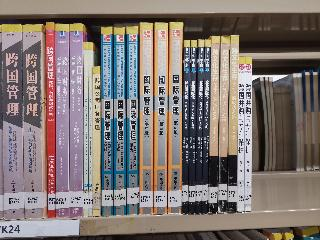book-spine: (22, 22, 47, 218), (2, 25, 25, 220), (137, 22, 154, 216), (67, 23, 83, 217), (153, 23, 168, 216), (125, 25, 140, 215), (55, 25, 69, 219), (168, 22, 182, 215), (100, 26, 114, 216), (217, 35, 231, 214), (113, 27, 126, 216), (208, 35, 221, 214), (227, 35, 238, 215), (45, 22, 55, 218), (194, 39, 205, 215), (202, 40, 210, 215), (183, 40, 190, 215), (92, 66, 100, 217), (238, 57, 245, 212), (190, 40, 196, 215), (87, 42, 93, 216), (246, 57, 252, 211), (83, 41, 88, 218)
